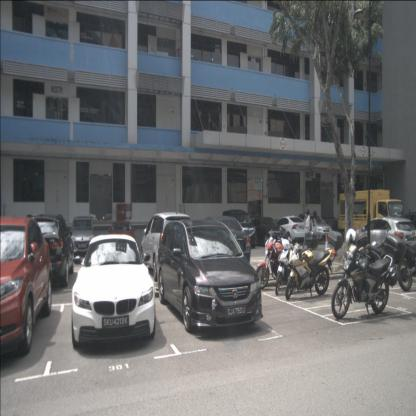cone: (325, 236, 330, 254)
